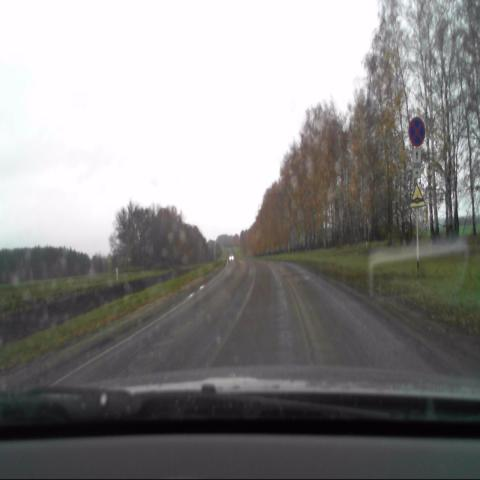8_2_2: (412, 149, 421, 178)
